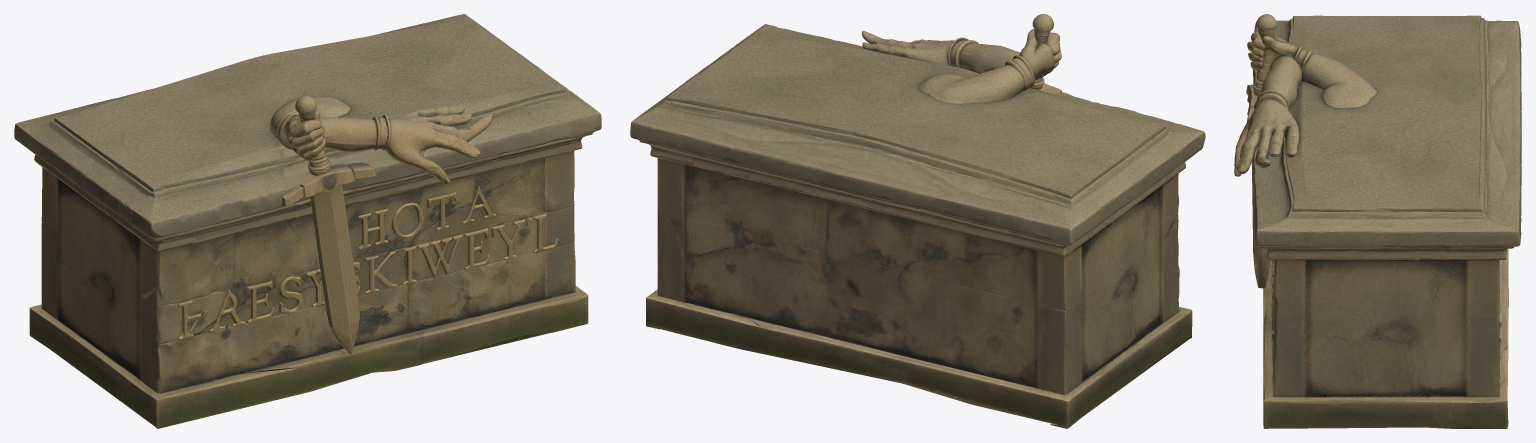
File: sarcophagus.glb
3 views of the same model, side by side, from view 1: azimuth 30°, elevation 25°; view 2: azimuth 150°, elevation 25°; view 3: azimuth 270°, elevation 25° (orthographic). The views are drawn at different scales.
Size of the model in its own units: 1.9 by 1.19 by 1.09.
1 material, 1 textured.
